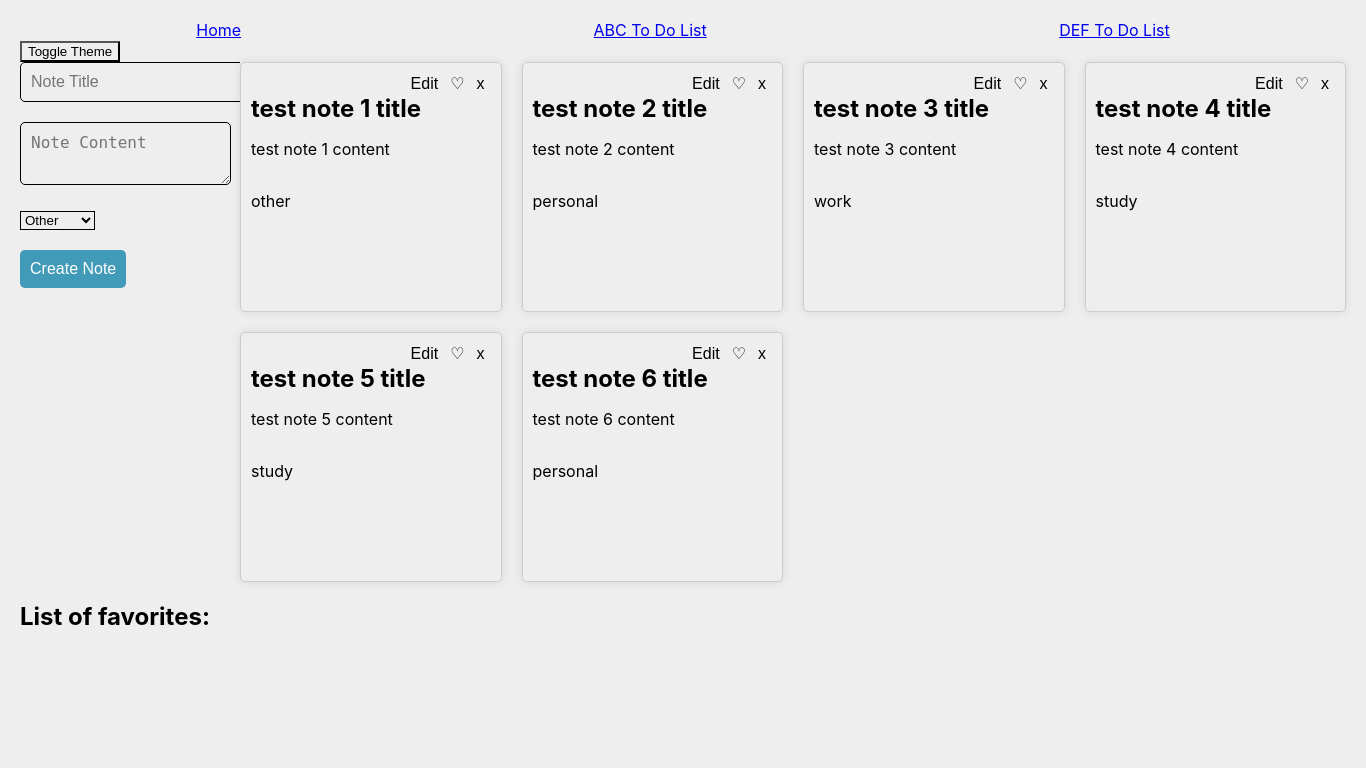
Test: Check ToDo list title link › ABC title link
The width and height of the screenshot is (1366, 768).
Click the link "ABC To Do List".
click(650, 30)  # box x1=594 y1=20 x2=707 y2=40
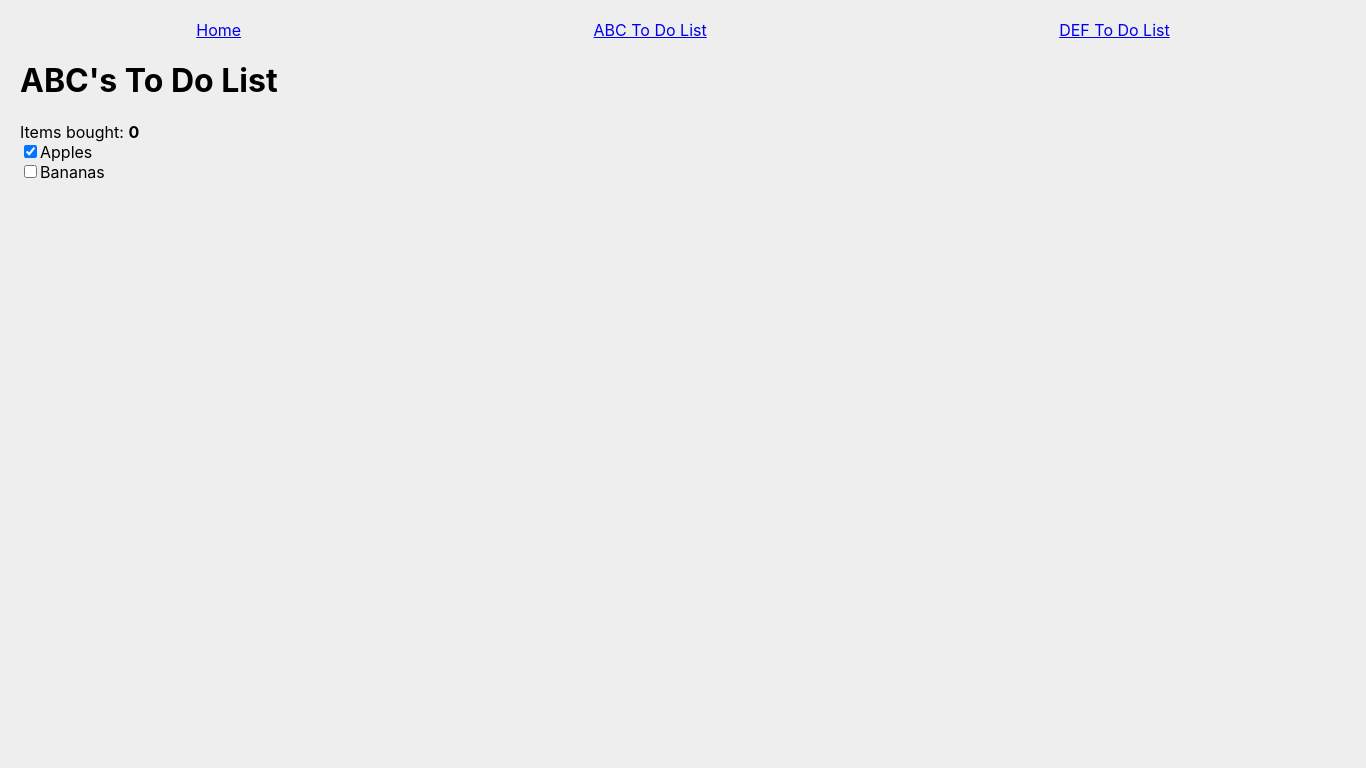
Check: the heading "ABC's To Do List" is shown, box x1=20 y1=61 x2=278 y2=100
